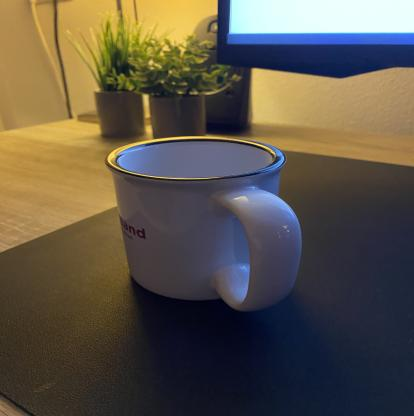Cup: (104, 134, 306, 313)
